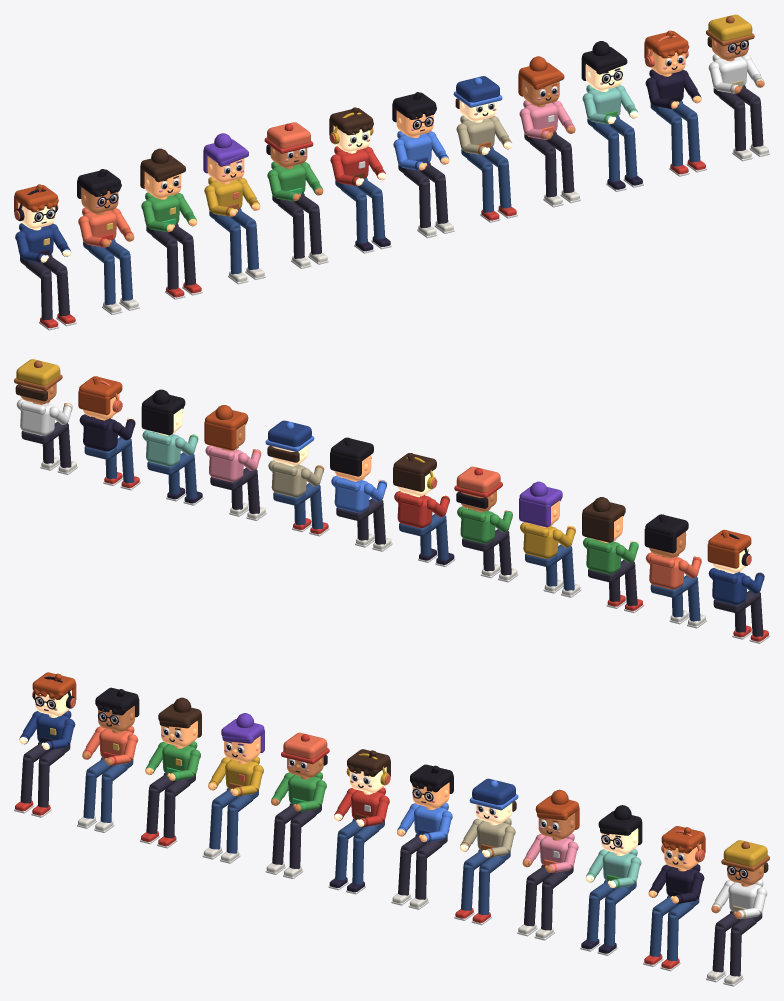
The model's file is characters.glb.
The picture shows the model from 3 angles, top to bottom: view 1: azimuth 30°, elevation 25°; view 2: azimuth 150°, elevation 25°; view 3: azimuth 330°, elevation 25°; orthographic projection.
Visible parts, largest first — view 1: Char_danny_Body_Mesh, Char_hire_coder_Body_Mesh, Char_hire_artist_Body_Mesh, Char_founder_artist_Body_Mesh, Char_hire_designer_Body_Mesh, Char_hire_writer_Body_Mesh, Char_hire_sound_Body_Mesh, Char_hire_coder2_Body_Mesh, Char_maggie_Body_Mesh, Char_roy_Body_Mesh, Char_founder_coder_Body_Mesh, Char_founder_designer_Body_Mesh (+12 smaller); view 2: Char_hire_coder2_Body_Mesh, Char_hire_coder_Body_Mesh, Char_hire_artist_Body_Mesh, Char_hire_designer_Body_Mesh, Char_danny_Body_Mesh, Char_roy_Body_Mesh, Char_hire_sound_Body_Mesh, Char_hire_writer_Body_Mesh, Char_founder_coder_Body_Mesh, Char_maggie_Body_Mesh, Char_founder_artist_Body_Mesh, Char_founder_designer_Body_Mesh (+12 smaller); view 3: Char_hire_sound_Body_Mesh, Char_hire_coder_Body_Mesh, Char_founder_artist_Body_Mesh, Char_hire_artist_Body_Mesh, Char_founder_coder_Body_Mesh, Char_danny_Body_Mesh, Char_founder_designer_Body_Mesh, Char_hire_coder2_Body_Mesh, Char_hire_designer_Body_Mesh, Char_hire_writer_Body_Mesh, Char_maggie_Body_Mesh, Char_roy_Body_Mesh (+12 smaller).
Boxes of the visible parts, x1,y1,x2,y2 form: Char_danny_Body_Mesh: (270, 161, 328, 268); Char_hire_coder_Body_Mesh: (397, 131, 454, 238); Char_hire_artist_Body_Mesh: (523, 100, 580, 207); Char_founder_artist_Body_Mesh: (144, 192, 202, 299); Char_hire_designer_Body_Mesh: (586, 84, 643, 191); Char_hire_writer_Body_Mesh: (712, 54, 769, 161); Char_hire_sound_Body_Mesh: (649, 69, 706, 176); Char_hire_coder2_Body_Mesh: (460, 115, 517, 222); Char_maggie_Body_Mesh: (207, 177, 265, 284); Char_roy_Body_Mesh: (334, 146, 391, 253); Char_founder_coder_Body_Mesh: (18, 223, 76, 330); Char_founder_designer_Body_Mesh: (81, 208, 139, 314); Char_hire_coder2_Body_Mesh: (271, 462, 329, 536); Char_hire_coder_Body_Mesh: (334, 478, 392, 551); Char_hire_artist_Body_Mesh: (209, 447, 266, 520); Char_hire_designer_Body_Mesh: (146, 432, 203, 505); Char_danny_Body_Mesh: (460, 508, 518, 582); Char_roy_Body_Mesh: (397, 493, 455, 566); Char_hire_sound_Body_Mesh: (83, 416, 140, 490); Char_hire_writer_Body_Mesh: (20, 401, 77, 474); Char_founder_coder_Body_Mesh: (712, 570, 769, 643); Char_maggie_Body_Mesh: (523, 524, 581, 597); Char_founder_artist_Body_Mesh: (586, 539, 644, 612); Char_founder_designer_Body_Mesh: (649, 554, 706, 628); Char_hire_sound_Body_Mesh: (643, 864, 700, 971); Char_hire_coder_Body_Mesh: (391, 802, 449, 909); Char_founder_artist_Body_Mesh: (140, 741, 197, 848); Char_hire_artist_Body_Mesh: (517, 833, 574, 940); Char_founder_coder_Body_Mesh: (14, 710, 71, 817); Char_danny_Body_Mesh: (265, 772, 323, 878); Char_founder_designer_Body_Mesh: (77, 726, 134, 832); Char_hire_coder2_Body_Mesh: (454, 818, 511, 925); Char_hire_designer_Body_Mesh: (580, 849, 637, 955); Char_hire_writer_Body_Mesh: (706, 879, 763, 986); Char_maggie_Body_Mesh: (202, 756, 260, 863); Char_roy_Body_Mesh: (328, 787, 386, 894).
Bounding box in the file's own units: 9.39 × 1.53 × 0.7625.
